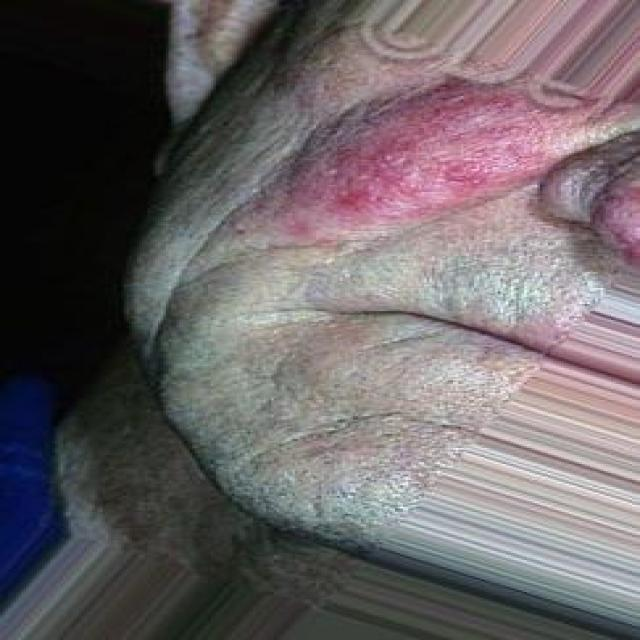Rosacea: (237, 77, 542, 241)
